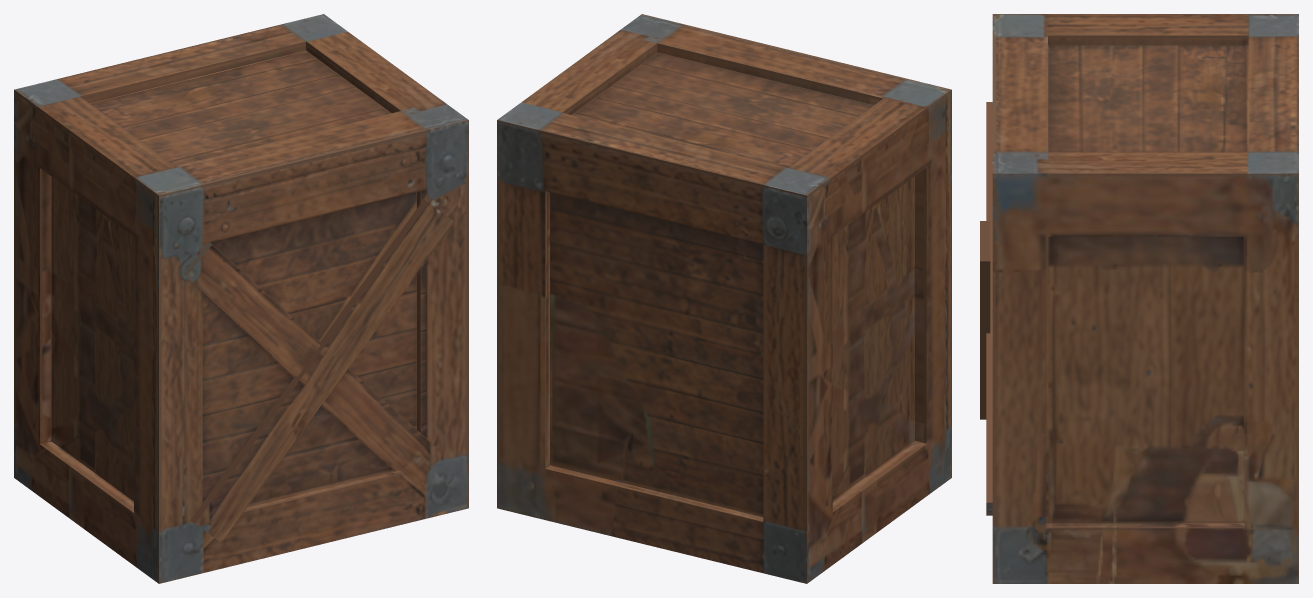
Rendered from StorageCrate.fbx.
3 renders of one model, left to right at view 1: azimuth 30°, elevation 25°; view 2: azimuth 150°, elevation 25°; view 3: azimuth 270°, elevation 25°, orthographic. The views are drawn at different scales.
Visible parts, largest first — view 1: StorageCrate_Low; view 2: StorageCrate_Low; view 3: StorageCrate_Low.
Boxes of the visible parts, bbox=[...] form: StorageCrate_Low: bbox=[14, 14, 468, 583]; StorageCrate_Low: bbox=[497, 14, 951, 583]; StorageCrate_Low: bbox=[980, 14, 1298, 583].
Bounding box in the file's own units: 1.37 × 1.64 × 1.15.
